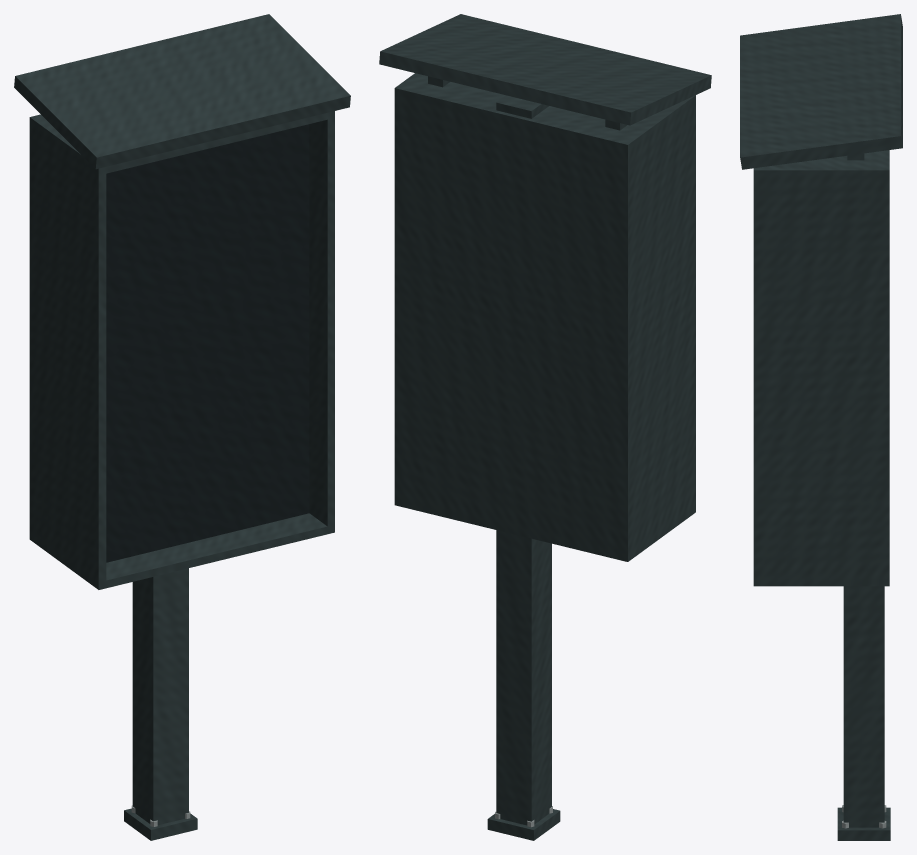
3 renders of one model, left to right at view 1: azimuth 30°, elevation 25°; view 2: azimuth 150°, elevation 25°; view 3: azimuth 270°, elevation 25°, orthographic.
Visible parts, largest first — view 1: B021-04_display_dark, B021-04_housing_iron, B021-04_hood_iron, B021-04_support_iron, B021-04_base_iron; view 2: B021-04_housing_iron, B021-04_hood_iron, B021-04_support_iron, B021-04_base_iron; view 3: B021-04_housing_iron, B021-04_hood_iron, B021-04_support_iron, B021-04_base_iron.
Boxes of the visible parts, x1=… form: B021-04_display_dark: x1=106, y1=124, x2=309, y2=562; B021-04_housing_iron: x1=29, y1=111, x2=334, y2=589; B021-04_hood_iron: x1=14, y1=14, x2=350, y2=169; B021-04_support_iron: x1=132, y1=568, x2=188, y2=825; B021-04_base_iron: x1=124, y1=808, x2=197, y2=840; B021-04_housing_iron: x1=394, y1=73, x2=695, y2=561; B021-04_hood_iron: x1=379, y1=14, x2=711, y2=125; B021-04_support_iron: x1=496, y1=95, x2=551, y2=825; B021-04_base_iron: x1=487, y1=809, x2=560, y2=840; B021-04_housing_iron: x1=753, y1=150, x2=889, y2=586; B021-04_hood_iron: x1=740, y1=14, x2=902, y2=169; B021-04_support_iron: x1=843, y1=586, x2=884, y2=827; B021-04_base_iron: x1=837, y1=807, x2=890, y2=840.
Size of the model in its own units: 0.85 by 2.45 by 0.4789.
3 materials, 3 textured.
